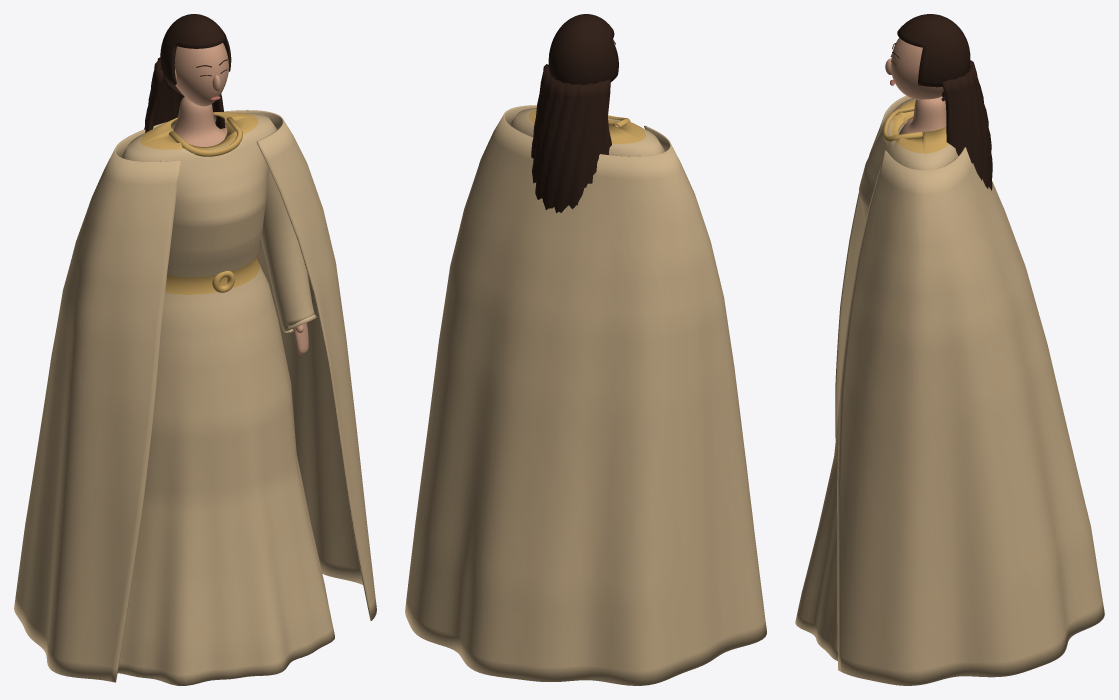
The model's file is kaftan-model-04.glb.
3 renders of one model, left to right at view 1: azimuth 30°, elevation 25°; view 2: azimuth 150°, elevation 25°; view 3: azimuth 270°, elevation 25°, orthographic.
Visible parts, largest first — view 1: Kaftan, Body, Hair; view 2: Kaftan, Hair; view 3: Kaftan, Hair, Body.
Boxes of the visible parts, bbox=[...] form: Kaftan: bbox=[14, 110, 376, 685]; Body: bbox=[173, 43, 308, 354]; Hair: bbox=[144, 14, 231, 132]; Kaftan: bbox=[405, 105, 766, 685]; Hair: bbox=[531, 14, 618, 213]; Kaftan: bbox=[795, 95, 1104, 685]; Hair: bbox=[897, 14, 992, 190]; Body: bbox=[885, 37, 946, 135].
Size of the model in its own units: 0.9477 by 1.75 by 0.7981.
4 materials, 4 textured.
